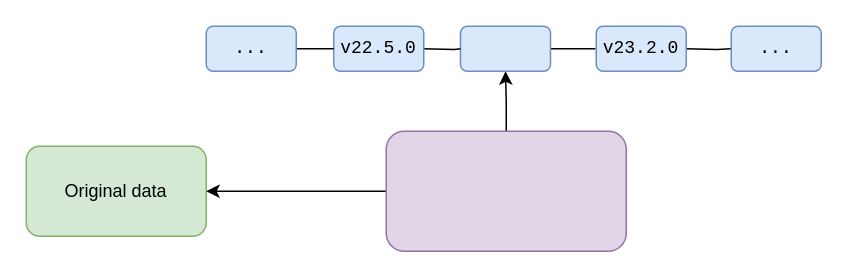
This 848x278 diagram has some shape labels left out. Each missing label, with the centre of its shape:
"* history * data_url * data_url_datetime" goes at point 505,190.
"v23.1.0" goes at point 504,48.
